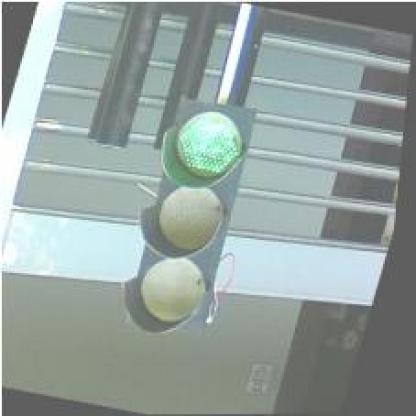green: (115, 91, 270, 338)
